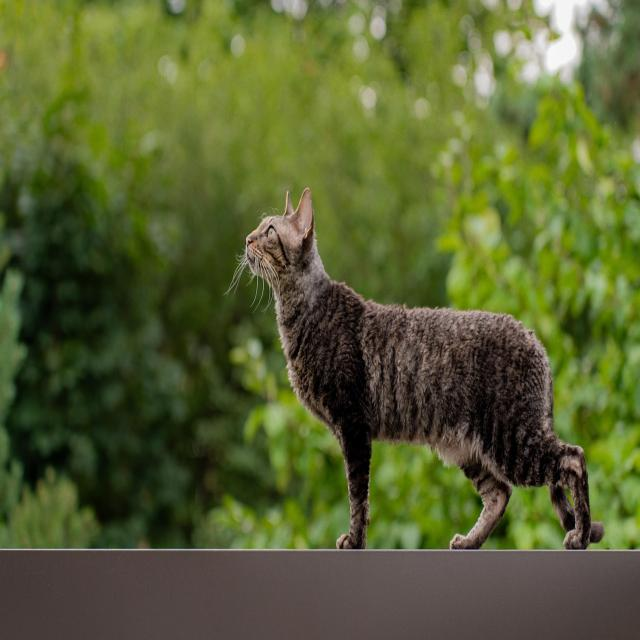cat: (244, 188, 604, 548)
